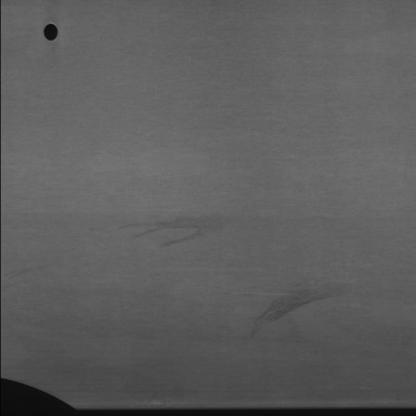crescent_gap: (1, 373, 80, 410)
punching_hole: (39, 22, 59, 42)
water_spot: (223, 274, 354, 332), (123, 214, 227, 246)
